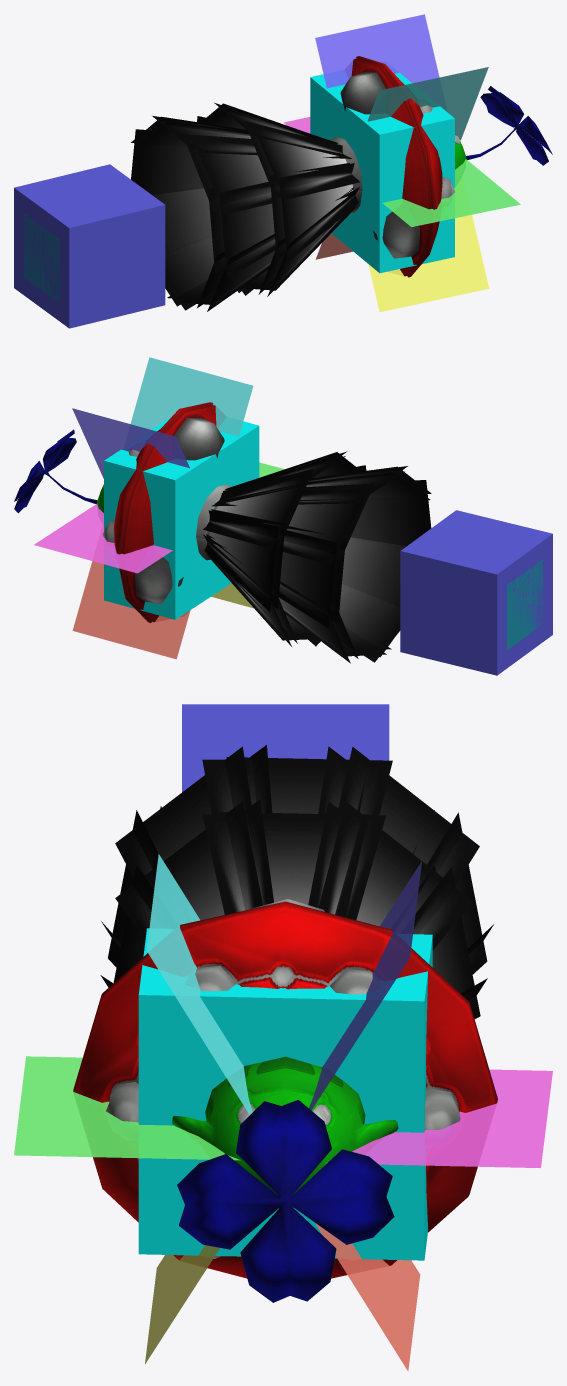
The picture shows the model from 3 angles, top to bottom: view 1: azimuth 30°, elevation 25°; view 2: azimuth 150°, elevation 25°; view 3: azimuth 270°, elevation 25°; orthographic projection. The views are drawn at different scales.
Parts seen in each view (by area): view 1: object0258_Box, object0173_Plane172, object0246_Box, object0005_B1274, object0243_Plane171, "object0086_Editable Poly", "object0130_Editable Poly", "object0158_Editable Poly", "object0144_Editable Poly", object0066_Plane173, object0170_Plane174, object0261_Box (+1 smaller); view 2: object0258_Box, object0066_Plane173, object0246_Box, object0005_B1274, object0170_Plane174, "object0158_Editable Poly", "object0116_Editable Poly", object0173_Plane172, "object0102_Editable Poly", "object0086_Editable Poly", object0243_Plane171, object0261_Box (+1 smaller); view 3: object0005_B1274, object0246_Box, object0243_Plane171, object0170_Plane174, object0173_Plane172, object0258_Box, "object0144_Editable Poly", "object0102_Editable Poly", object0066_Plane173, "object0158_Editable Poly", "object0116_Editable Poly", "object0086_Editable Poly" (+5 smaller).
Boxes of the visible parts, x1,y1,x2,y2 form: object0258_Box: [14, 164, 165, 328]; object0173_Plane172: [134, 120, 359, 311]; object0246_Box: [310, 73, 454, 273]; object0005_B1274: [331, 56, 552, 277]; object0243_Plane171: [199, 106, 359, 296]; "object0086_Editable Poly": [315, 14, 439, 88]; "object0130_Editable Poly": [368, 214, 489, 312]; "object0158_Editable Poly": [367, 67, 488, 140]; "object0144_Editable Poly": [382, 159, 520, 227]; object0066_Plane173: [131, 116, 353, 307]; object0170_Plane174: [197, 102, 353, 294]; object0261_Box: [24, 213, 59, 303]; object0258_Box: [400, 510, 552, 675]; object0066_Plane173: [203, 471, 430, 663]; object0246_Box: [104, 417, 259, 619]; object0005_B1274: [14, 402, 230, 622]; object0170_Plane174: [203, 456, 365, 646]; "object0158_Editable Poly": [130, 357, 253, 436]; "object0116_Editable Poly": [72, 561, 190, 659]; object0173_Plane172: [206, 466, 431, 658]; "object0102_Editable Poly": [34, 504, 172, 573]; "object0086_Editable Poly": [72, 408, 189, 478]; object0243_Plane171: [206, 451, 366, 643]; object0261_Box: [507, 559, 542, 650]; object0005_B1274: [73, 899, 497, 1302]; object0246_Box: [138, 928, 432, 1260]; object0243_Plane171: [100, 801, 435, 987]; object0170_Plane174: [152, 799, 487, 1018]; object0173_Plane172: [101, 746, 434, 967]; object0258_Box: [182, 704, 389, 792]; "object0144_Editable Poly": [14, 1056, 240, 1160]; "object0102_Editable Poly": [325, 1069, 552, 1168]; object0066_Plane173: [160, 745, 493, 974]; "object0158_Editable Poly": [146, 854, 252, 1114]; "object0116_Editable Poly": [315, 1223, 420, 1371]; "object0086_Editable Poly": [309, 861, 421, 1110].
Size of the model in its own units: 1.09 by 0.4643 by 0.5463.
